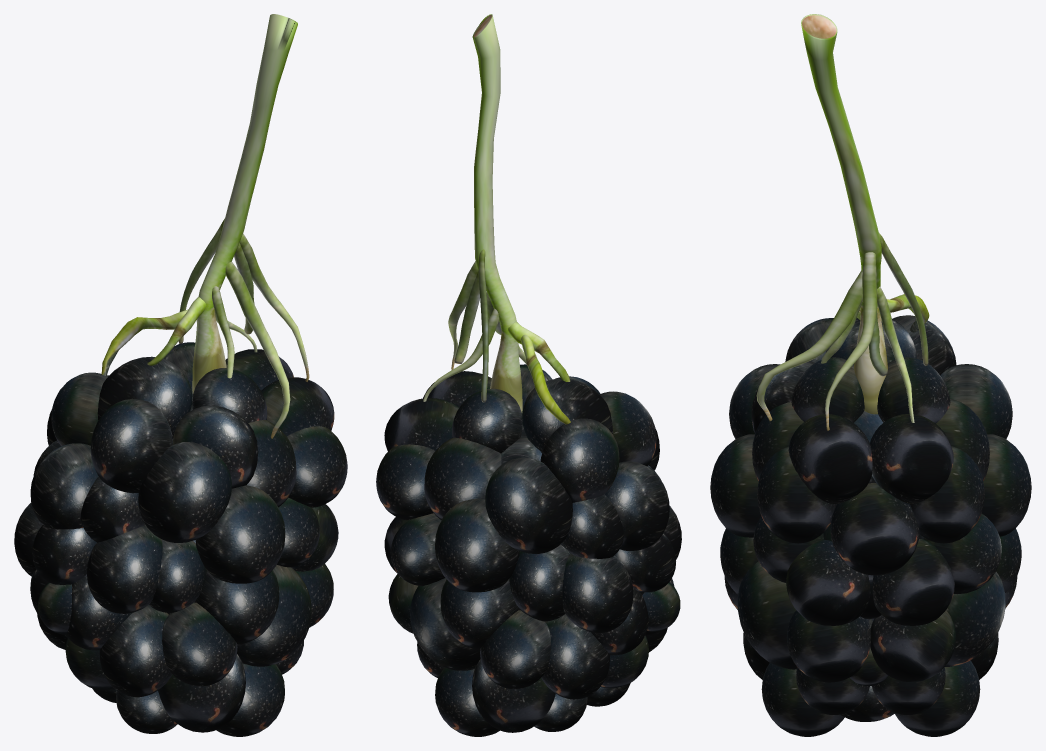
The model's file is blackberries.glb.
3 renders of one model, left to right at view 1: azimuth 30°, elevation 25°; view 2: azimuth 150°, elevation 25°; view 3: azimuth 270°, elevation 25°, orthographic. The views are drawn at different scales.
Visible parts, largest first — view 1: Material-material, Material_001-material; view 2: Material-material, Material_001-material; view 3: Material-material, Material_001-material.
Boxes of the visible parts, x1,y1,x2,y2 form: Material-material: [14, 342, 347, 736]; Material_001-material: [101, 14, 309, 438]; Material-material: [376, 364, 681, 736]; Material_001-material: [423, 14, 570, 424]; Material-material: [710, 315, 1031, 736]; Material_001-material: [756, 14, 929, 430].
Size of the model in its own units: 5.87 by 13.53 by 5.32.
Materials: 2 (2 with a texture image).
